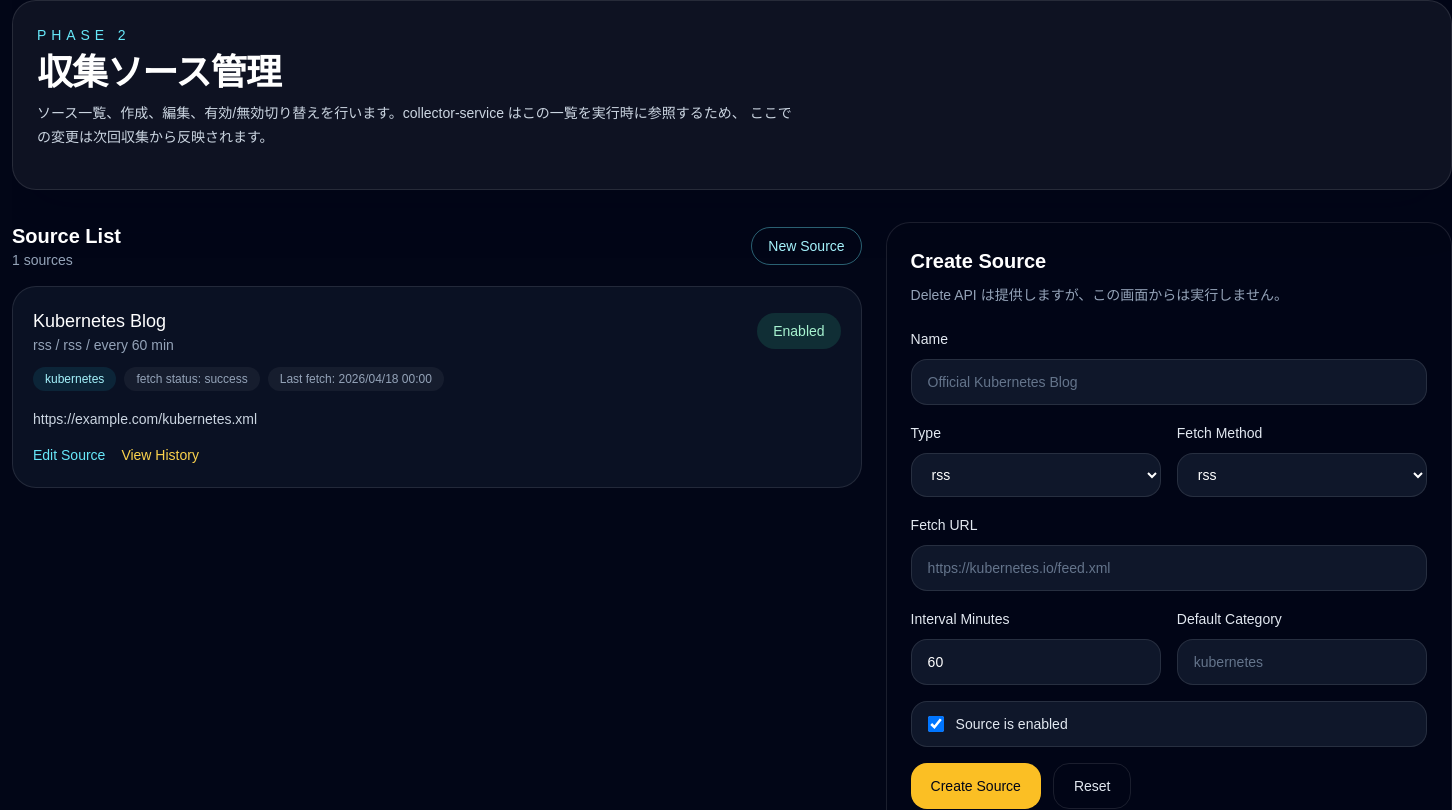
Scenario: SourceManagementPage › toggles source enable state with the full update payload
Click the button "Enabled". click: (799,331)
box: x1=757 y1=313 x2=841 y2=349
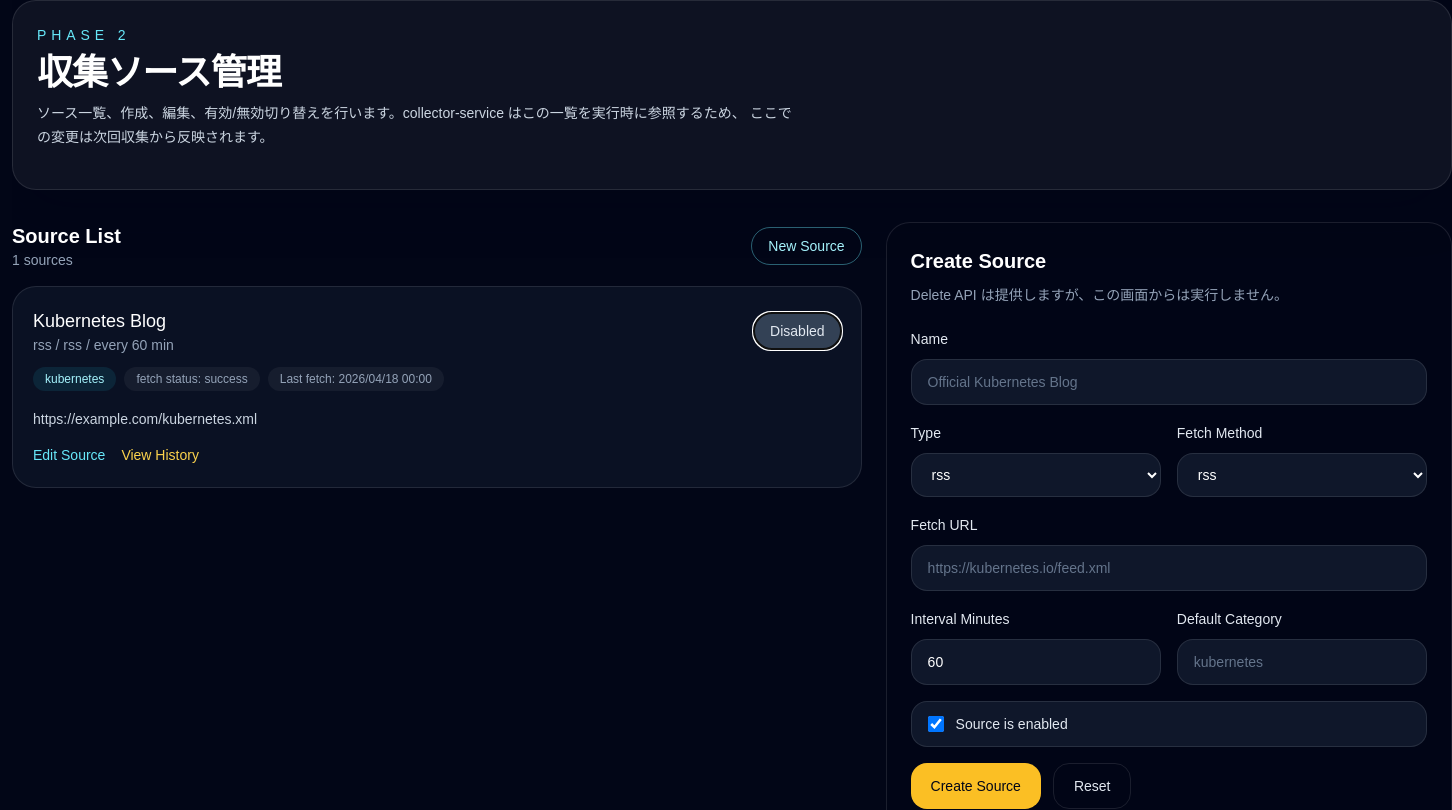
expect the button "Disabled" is shown: met, box x1=754 y1=313 x2=841 y2=349
